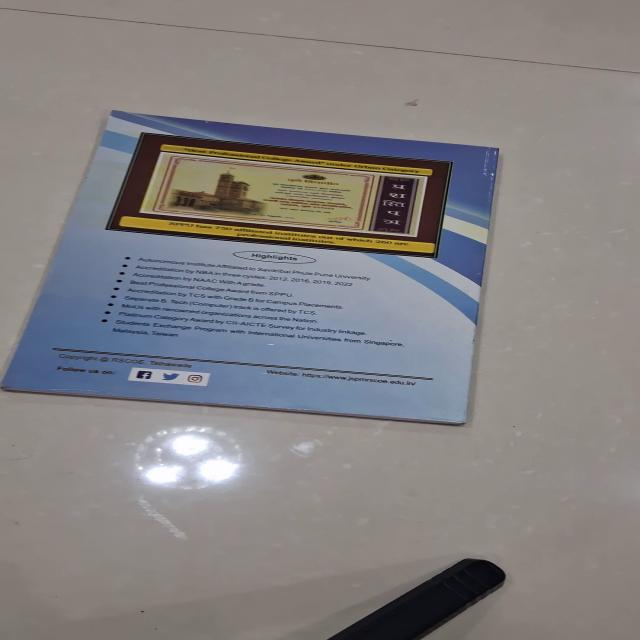paper: (1, 109, 500, 425)
